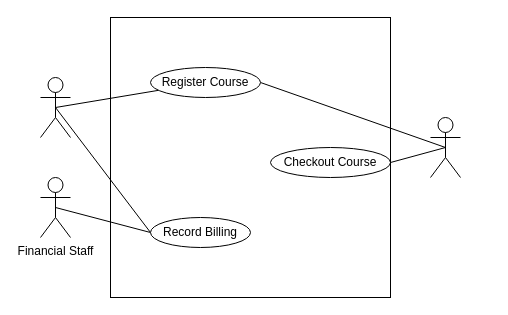
Image size: 508x315. Some labels were removed from this diagram. The shapes that lost their labels are listed below. From the top down, each one's box as (x1, y1, x2, y2) in pixels, then its label:
(40, 76, 70, 138): Student
(430, 116, 460, 178): Registration Staff
